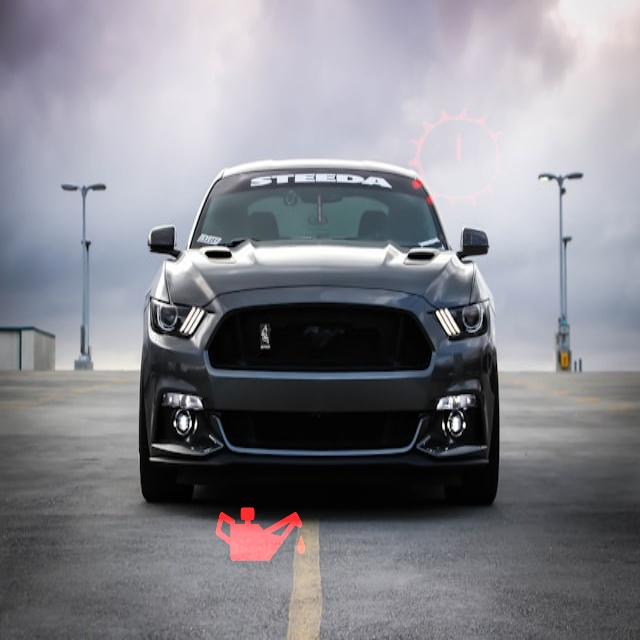symbol: (363, 63, 555, 255), (192, 460, 330, 598)
